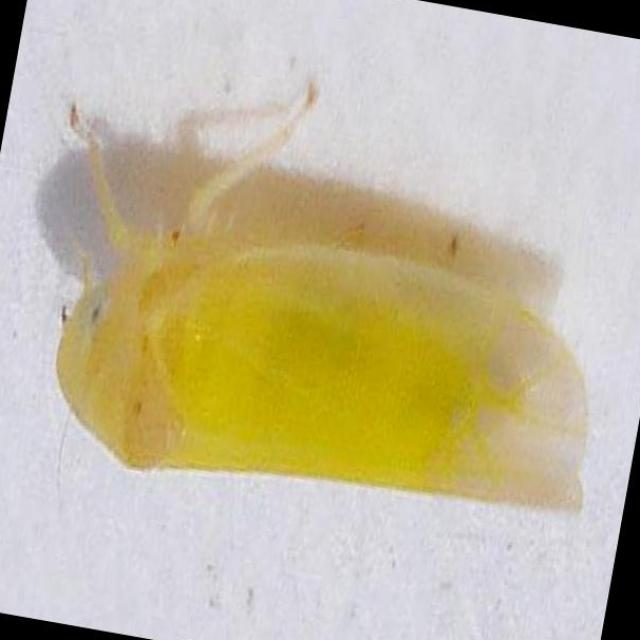green leaf hopper: (58, 86, 588, 511)
